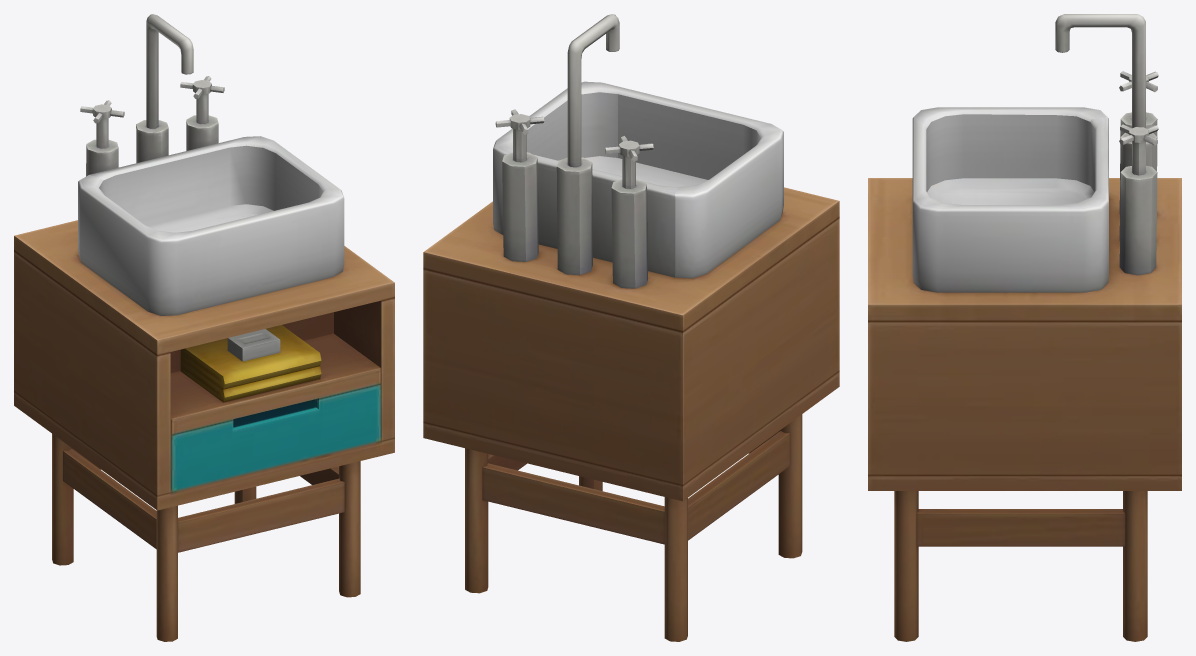
File: tiny_the_sinkz_bathroom_vanity.glb
3 views of the same model, side by side, from view 1: azimuth 30°, elevation 25°; view 2: azimuth 150°, elevation 25°; view 3: azimuth 270°, elevation 25° (orthographic). The views are drawn at different scales.
Visible parts, largest first — view 1: Object_66; view 2: Object_66; view 3: Object_66.
Boxes of the visible parts, left/top/right/bottom form: Object_66: left=14, top=14, right=394, bottom=641; Object_66: left=423, top=14, right=839, bottom=641; Object_66: left=868, top=14, right=1181, bottom=641.
Bounding box in the file's own units: 0.9483 × 2 × 0.991.
1 material, 1 textured.
